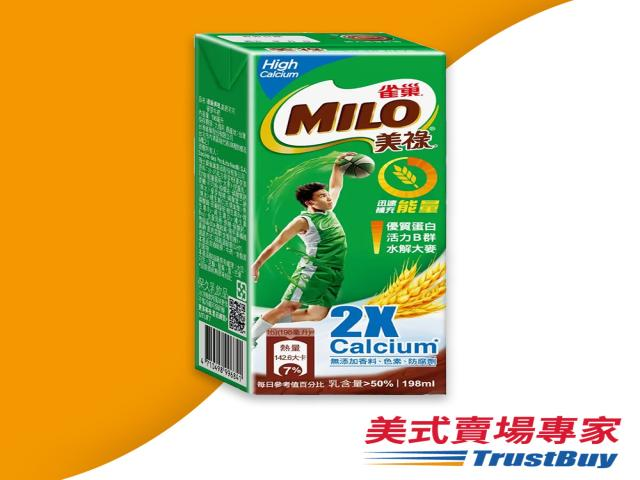drink_box: (195, 33, 446, 394)
